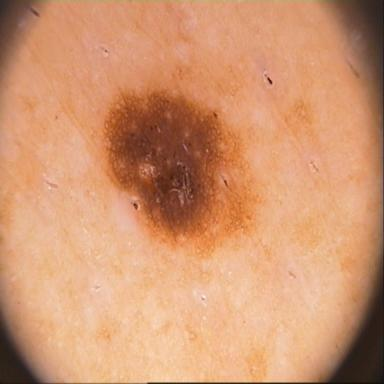nevus: (104, 83, 262, 259)
